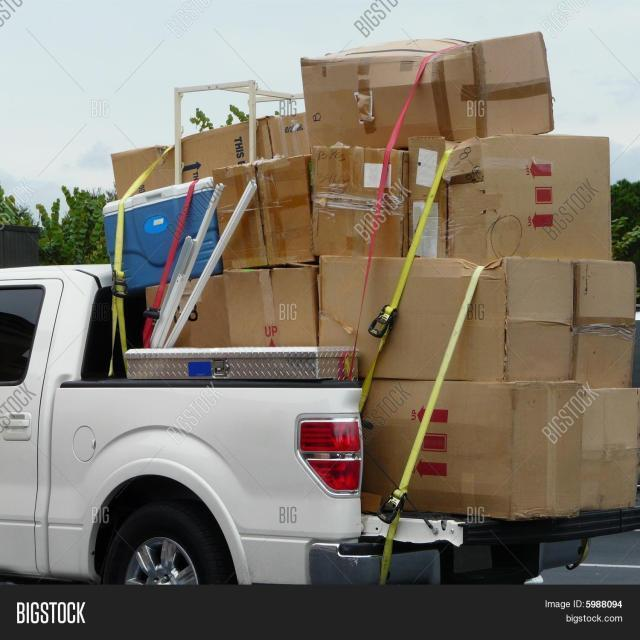uncovered: (15, 52, 640, 578)
